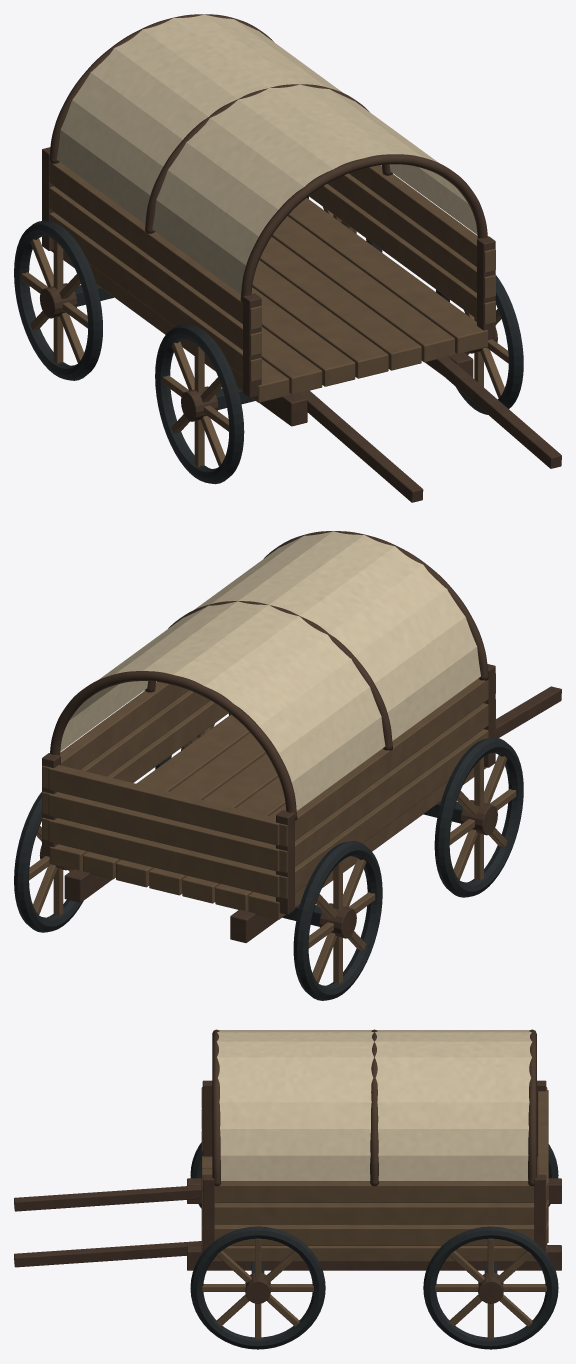
Rendered from Covered_Wagon.fbx.
3 renders of one model, top to bottom at view 1: azimuth 30°, elevation 25°; view 2: azimuth 150°, elevation 25°; view 3: azimuth 270°, elevation 25°, orthographic. The views are drawn at different scales.
Parts seen in each view (by area): view 1: Covered_Wagon.001; view 2: Covered_Wagon.001; view 3: Covered_Wagon.001.
Boxes of the visible parts, x1,y1,x2,y2 form: Covered_Wagon.001: (14, 14, 561, 502); Covered_Wagon.001: (14, 531, 561, 1000); Covered_Wagon.001: (14, 1029, 561, 1349).
Bounding box in the file's own units: 2.92 × 2.81 × 5.55.
